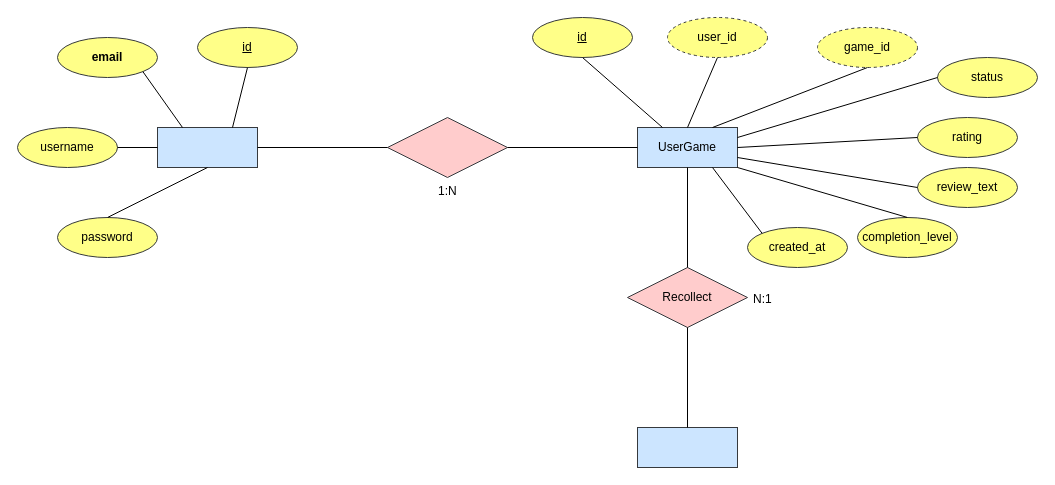
Image size: 1055x485. Some labels were removed from this diagram. The centre of each missing label's shape, as x and y in pixels:
Game: [687,447]
Has: [447,147]
User: [207,147]
